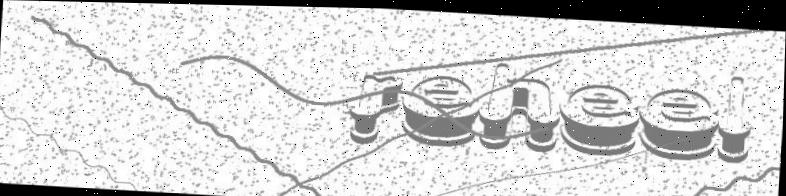e: (400, 69, 484, 146), (558, 78, 642, 155), (638, 82, 721, 159)
h: (478, 58, 564, 152)
l: (716, 71, 756, 162)
r: (350, 71, 405, 145)
